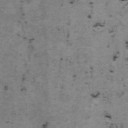oxide scale of temperature system: (56, 0, 128, 98), (4, 0, 42, 92), (104, 114, 126, 128), (41, 121, 50, 128), (60, 56, 64, 62)
